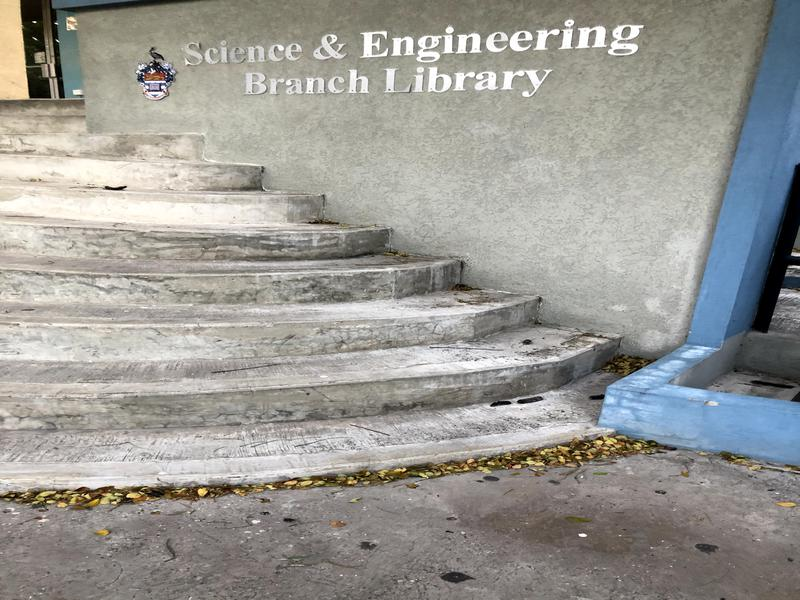18.0053644_-76.7493880_librarysign: (167, 16, 662, 111)
